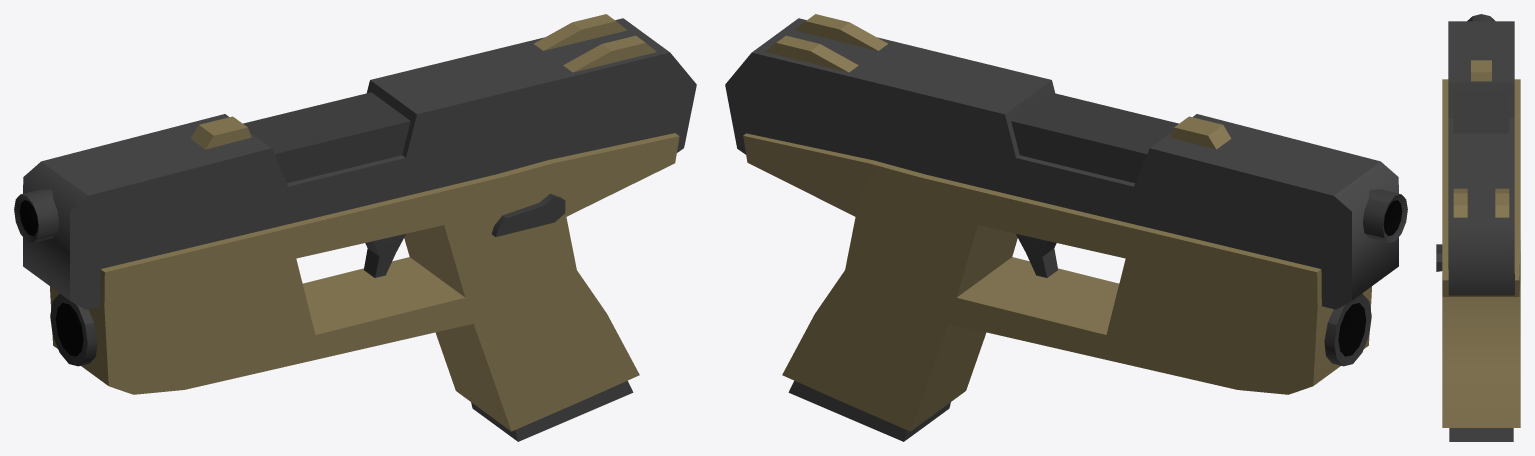
Rendered from Flock.fbx.
The picture shows the model from 3 angles, left to right: view 1: azimuth 30°, elevation 25°; view 2: azimuth 150°, elevation 25°; view 3: azimuth 270°, elevation 25°; orthographic projection. The views are drawn at different scales.
Parts seen in each view (by area): view 1: Base, Slide, Cube, Barrel, Magazine, Sight, Trigger; view 2: Base, Slide, Cube, Barrel, Magazine, Sight, Trigger; view 3: Slide, Base, Cube, Magazine, Sight, Barrel.
Boxes of the visible parts, bbox=[...] form: Base: bbox=[50, 133, 679, 431]; Slide: bbox=[23, 18, 696, 309]; Cube: bbox=[243, 14, 656, 183]; Barrel: bbox=[14, 189, 97, 366]; Magazine: bbox=[471, 381, 633, 441]; Sight: bbox=[190, 116, 251, 149]; Trigger: bbox=[364, 234, 405, 277]; Base: bbox=[743, 133, 1371, 431]; Slide: bbox=[725, 18, 1398, 309]; Cube: bbox=[765, 14, 1178, 183]; Barrel: bbox=[1324, 189, 1407, 366]; Magazine: bbox=[788, 381, 950, 441]; Sight: bbox=[1170, 116, 1231, 149]; Trigger: bbox=[1016, 234, 1057, 277]; Slide: bbox=[1448, 21, 1514, 295]; Base: bbox=[1436, 79, 1520, 427]; Cube: bbox=[1453, 91, 1509, 217]; Magazine: bbox=[1449, 428, 1513, 441]; Sight: bbox=[1471, 60, 1491, 81]; Barrel: bbox=[1467, 14, 1495, 21].
Bounding box in the file's own units: 219 × 118 × 35.06.
